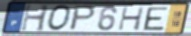6: (97, 5, 119, 32)
E: (143, 6, 170, 32)
H: (19, 3, 51, 33), (117, 6, 146, 31)
O: (46, 4, 73, 32)
P: (68, 5, 98, 32)
